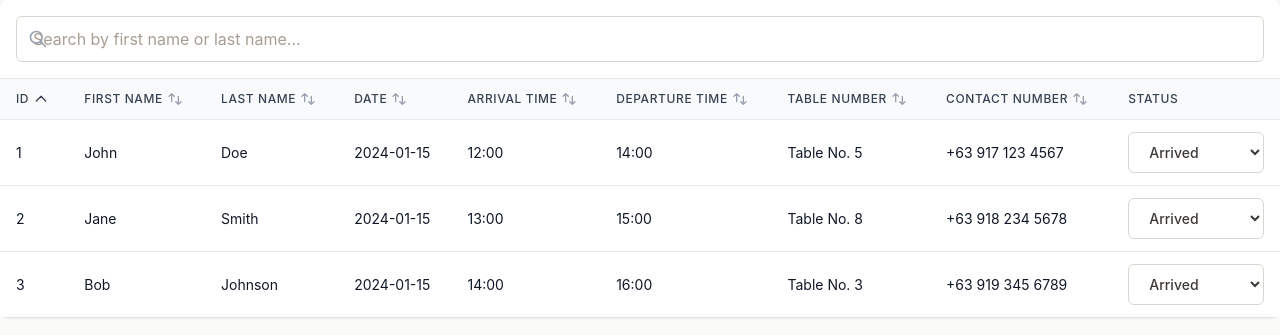
OngoingTable › should filter reservations by first name
The width and height of the screenshot is (1280, 335).
Type "John" into the field with placeholder "Search by first name or last name...". click: (640, 39)
box: top-left (16, 16), bottom-right (1264, 62)
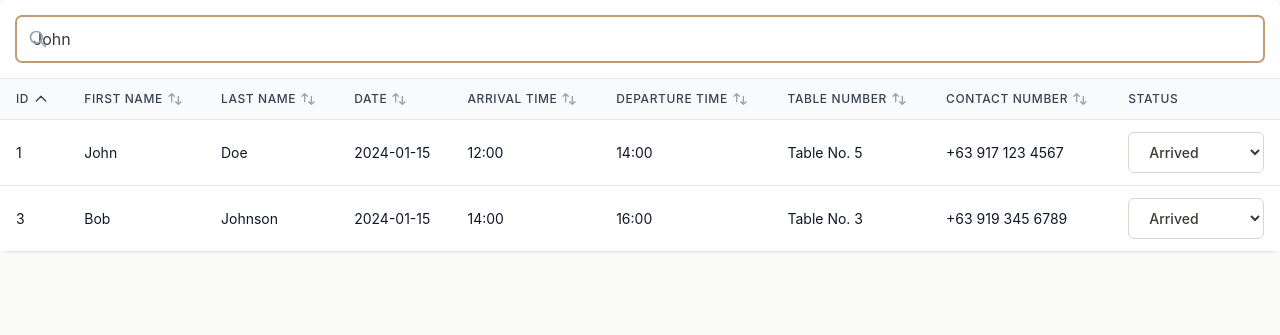
Expected: the text "John" is shown, top-left (68, 120), bottom-right (205, 186)
Expected: the text "Jane" is gone
